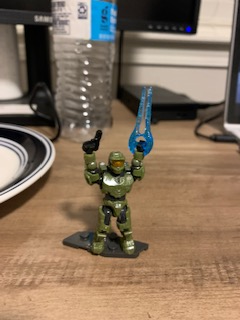chief: (80, 140, 145, 256)
pistol: (81, 127, 104, 156)
spartan: (78, 138, 143, 254)
up: (82, 143, 147, 200)
